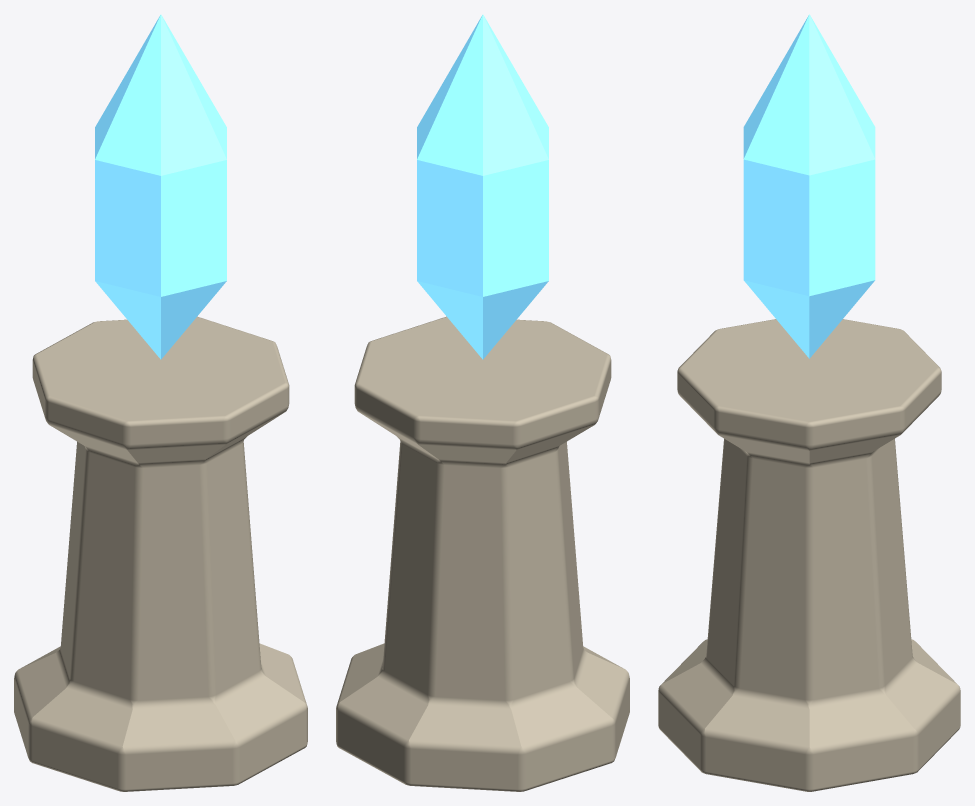
File: cristal.glb
3 views of the same model, side by side, from view 1: azimuth 30°, elevation 25°; view 2: azimuth 150°, elevation 25°; view 3: azimuth 270°, elevation 25° (orthographic).
Visible parts, largest first — view 1: Pedestal, Gema; view 2: Pedestal, Gema; view 3: Pedestal, Gema.
Part boxes in pixels (<box>): Pedestal: <box>14,316,307,791</box>; Gema: <box>95,14,226,359</box>; Pedestal: <box>336,316,629,791</box>; Gema: <box>417,14,548,359</box>; Pedestal: <box>658,319,960,791</box>; Gema: <box>743,14,875,358</box>.
Size of the model in its own units: 0.6355 by 1.66 by 0.6355.
